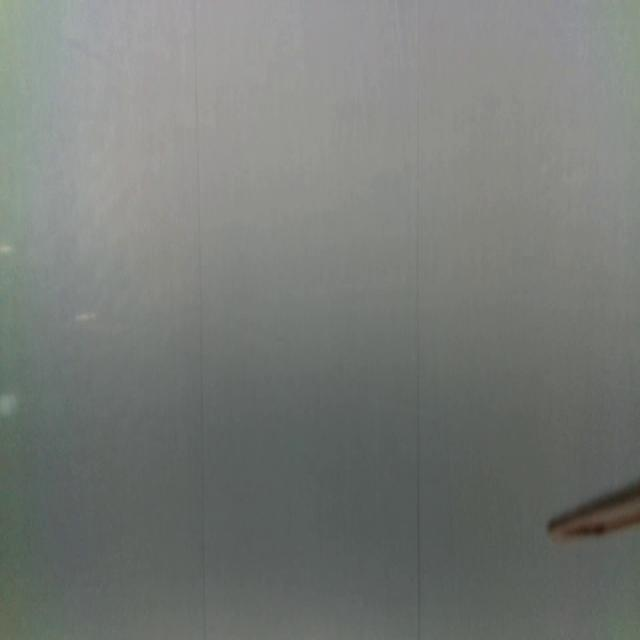crease: (191, 0, 208, 640), (414, 0, 423, 640)
